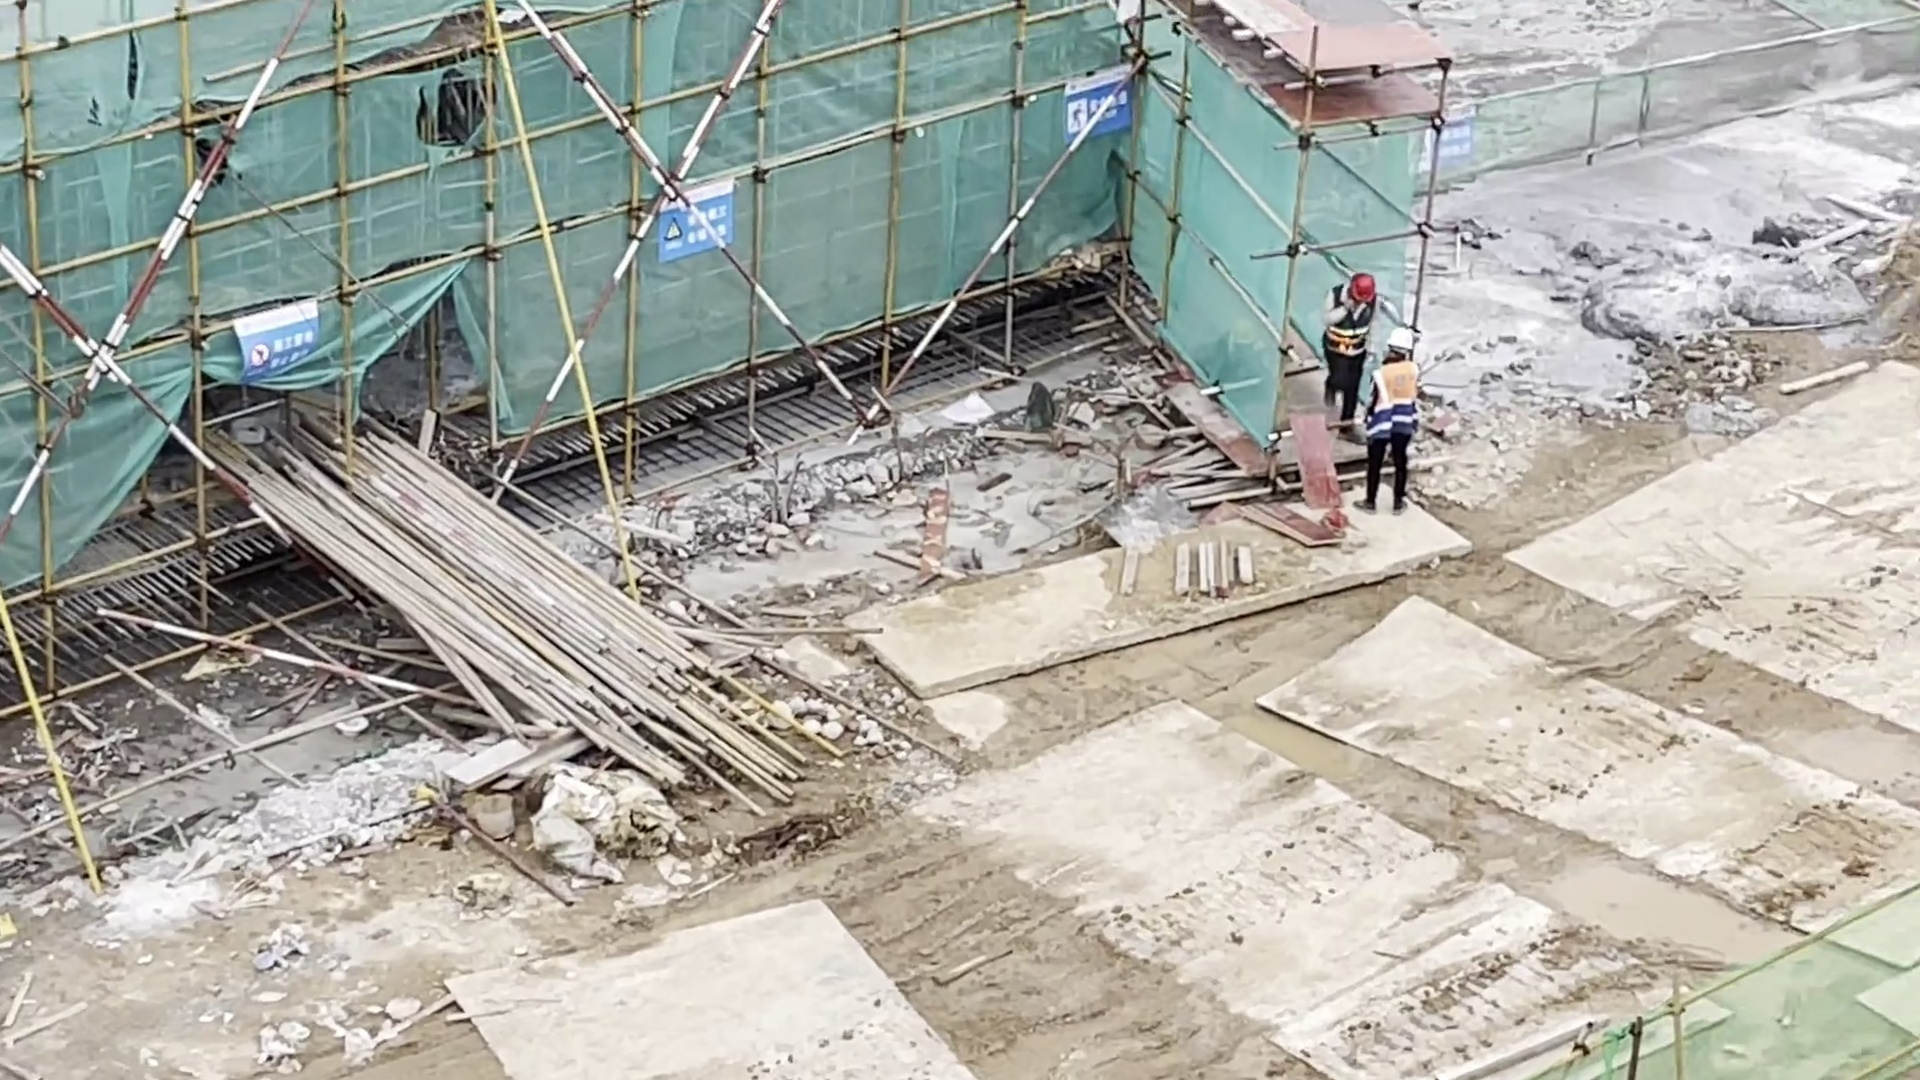helmet: (1353, 272, 1387, 305), (1383, 331, 1420, 350)
person: (1316, 258, 1379, 451), (1369, 324, 1421, 519)
vest: (1378, 365, 1424, 435)
